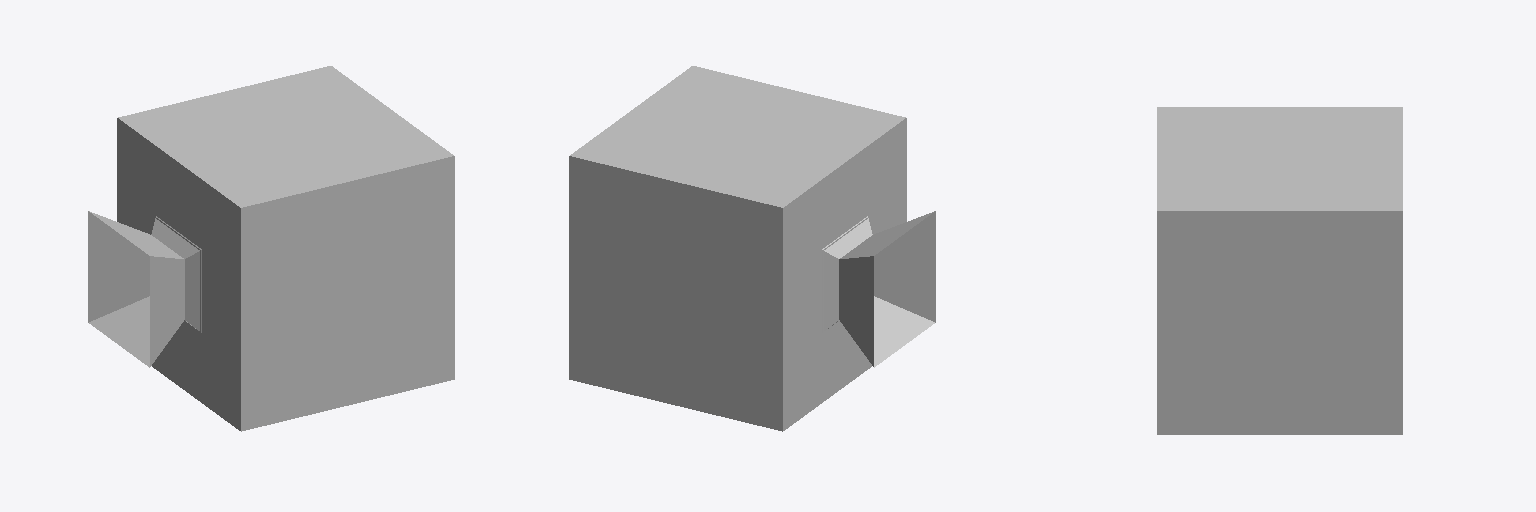
The picture shows the model from 3 angles: view 1: azimuth 30°, elevation 25°; view 2: azimuth 150°, elevation 25°; view 3: azimuth 270°, elevation 25°; orthographic projection.
Parts seen in each view (by area): view 1: cube, smoke, POINTFEFORM; view 2: cube, smoke, POINTFEFORM; view 3: cube.
Boxes of the visible parts, x1,y1,x2,y2 form: cube: [117, 66, 454, 431]; smoke: [88, 211, 184, 367]; POINTFEFORM: [151, 216, 201, 332]; cube: [569, 66, 906, 431]; smoke: [839, 211, 935, 367]; POINTFEFORM: [822, 216, 872, 332]; cube: [1157, 107, 1402, 434].
Size of the model in its own units: 1.28 by 1 by 1.